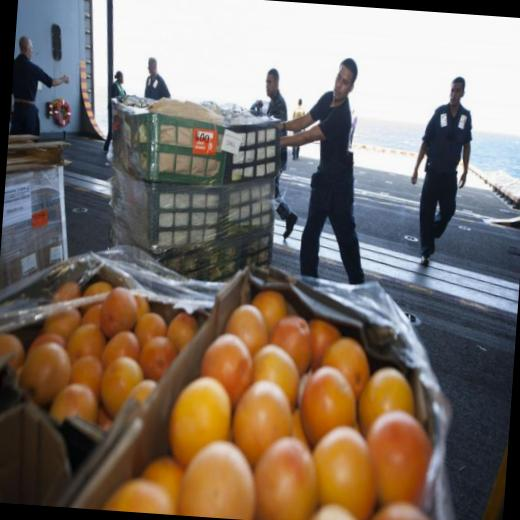Grape: (369, 402, 434, 500)
